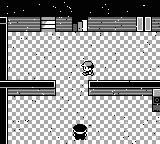main: (81, 62, 94, 74)
no-caminable: (1, 1, 160, 17), (89, 80, 160, 96), (1, 80, 56, 96), (88, 17, 136, 32), (8, 17, 40, 32), (1, 17, 7, 81), (1, 88, 7, 143), (56, 17, 72, 31), (152, 89, 160, 112), (153, 89, 160, 111), (152, 17, 160, 31)
npc: (73, 124, 87, 140)
puerta: (40, 17, 56, 32), (136, 17, 152, 31), (73, 17, 88, 31)
